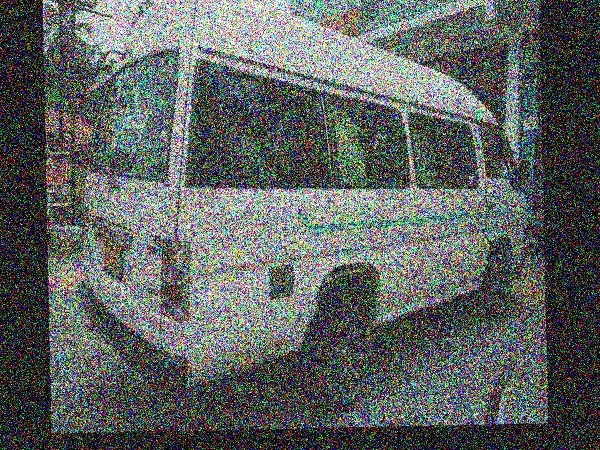van: (81, 0, 535, 393)
